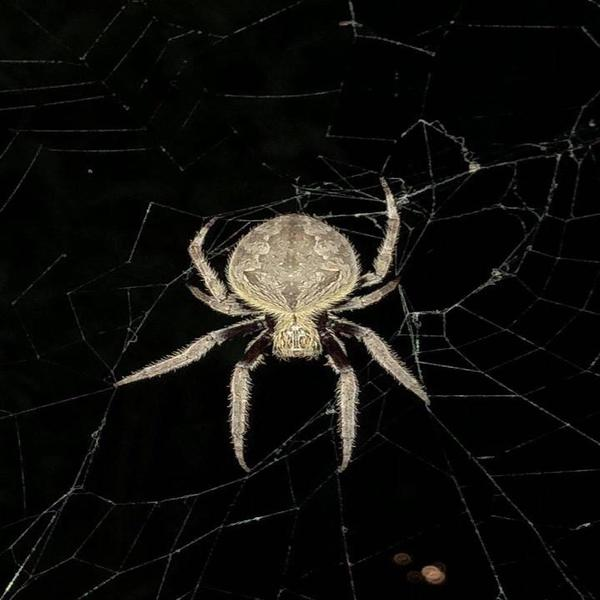Garden_Orb_Weaver_Spider: (115, 177, 430, 472)
